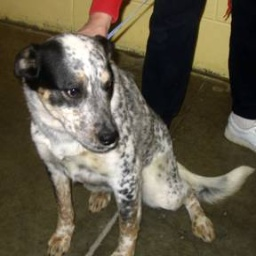dog: (14, 32, 230, 240)
